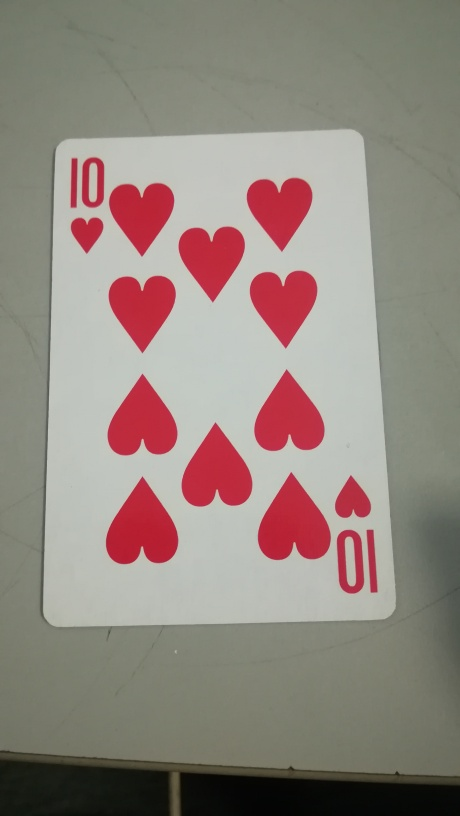hx 10: (42, 139, 399, 635)
